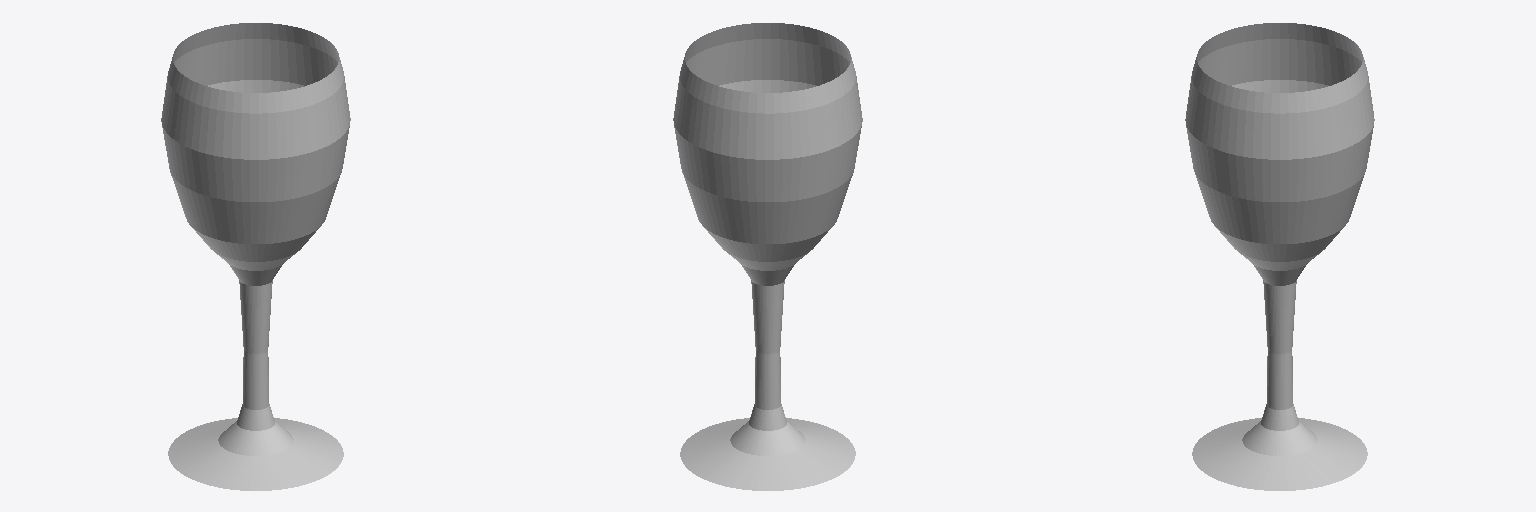
File: Glass.obj
The picture shows the model from 3 angles: view 1: azimuth 30°, elevation 25°; view 2: azimuth 150°, elevation 25°; view 3: azimuth 270°, elevation 25°; orthographic projection.
Visible parts, largest first — view 1: Circle_Circle.001; view 2: Circle_Circle.001; view 3: Circle_Circle.001.
Boxes of the visible parts, x1,y1,x2,y2 form: Circle_Circle.001: [161, 23, 350, 490]; Circle_Circle.001: [673, 23, 862, 490]; Circle_Circle.001: [1185, 23, 1374, 490].
Bounding box in the file's own units: 3.88 × 8.95 × 3.88.